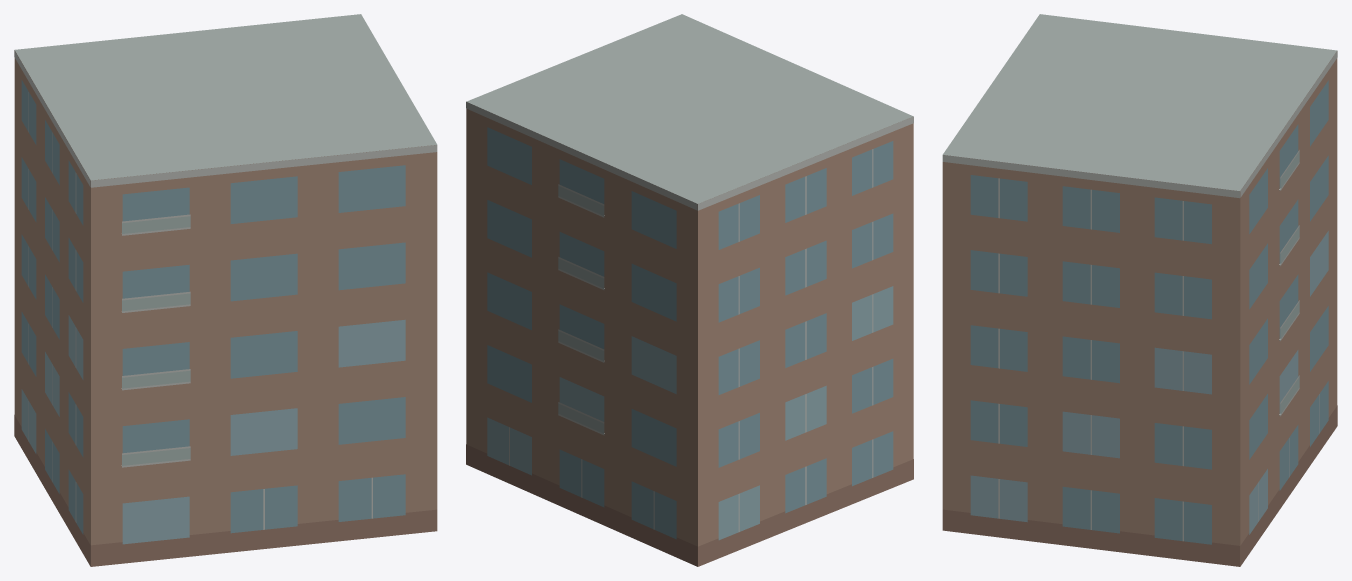
File: survey-upis-32873346.glb
3 renders of one model, left to right at view 1: azimuth 30°, elevation 25°; view 2: azimuth 150°, elevation 25°; view 3: azimuth 270°, elevation 25°, orthographic. The views are drawn at different scales.
Visible parts, largest first — view 1: survey-upis-32873346.tmp; view 2: survey-upis-32873346.tmp; view 3: survey-upis-32873346.tmp.
Part boxes in pixels (x1,y1,x2,y2): survey-upis-32873346.tmp: (14, 14, 437, 566); survey-upis-32873346.tmp: (466, 14, 913, 566); survey-upis-32873346.tmp: (942, 14, 1337, 566).
Size of the model in its own units: 13.16 by 13 by 12.39.
